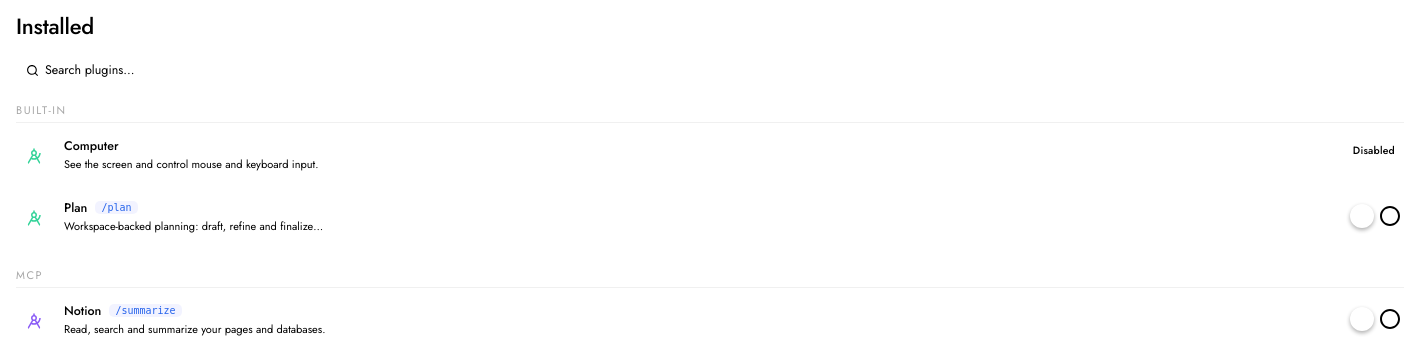
it: PluginsInstalledPage › PluginsInstalledPage — search › typing filters rows by description and by command/tool name
Type "summarize" into the field with placeholder "Search plugins..." at (720, 70), box top-left (45, 61), bottom-right (1394, 79)
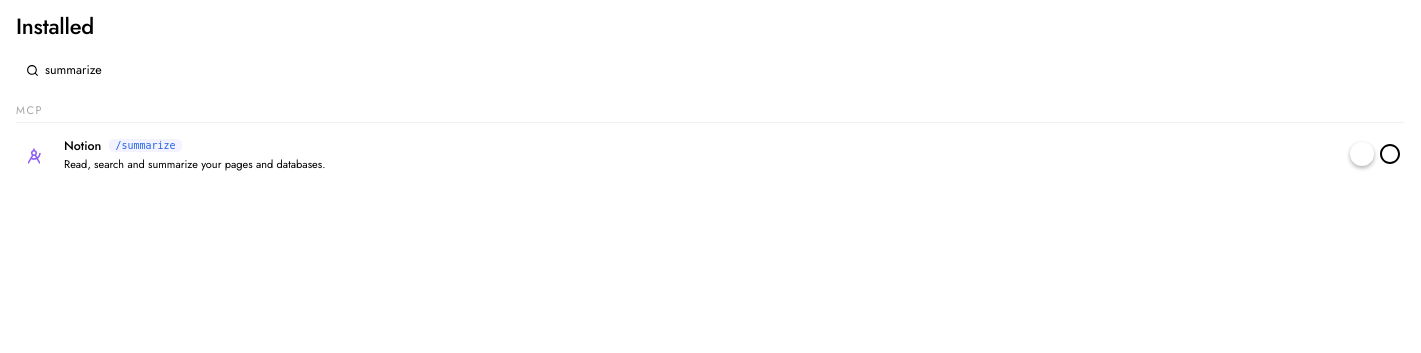
expect the text "Notion" is shown: met, box top-left (64, 136), bottom-right (101, 154)
expect the text "Plan" is gone: met
